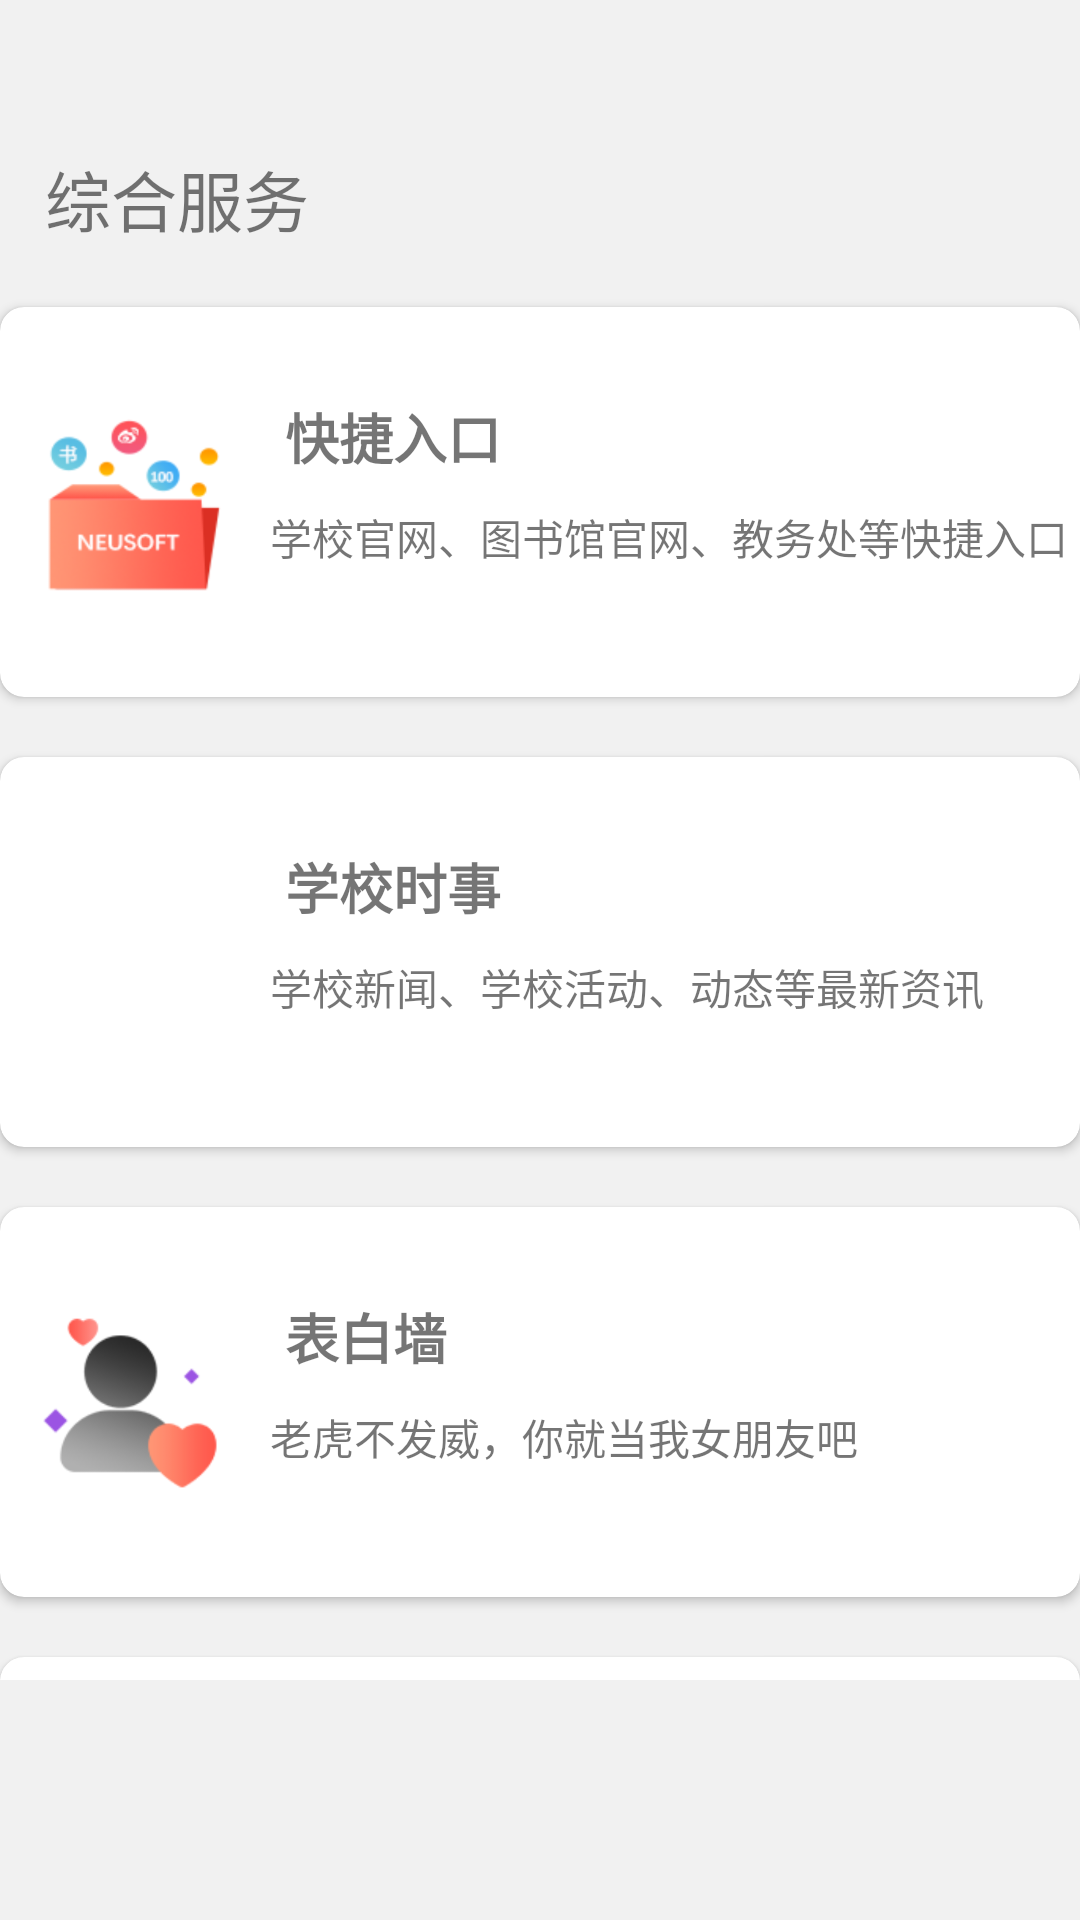

Locate icon controls on the screen. Image size 1080*1920, boxes as (x1, y1, x2, y2).
lovewall: (44, 1318, 217, 1488)
